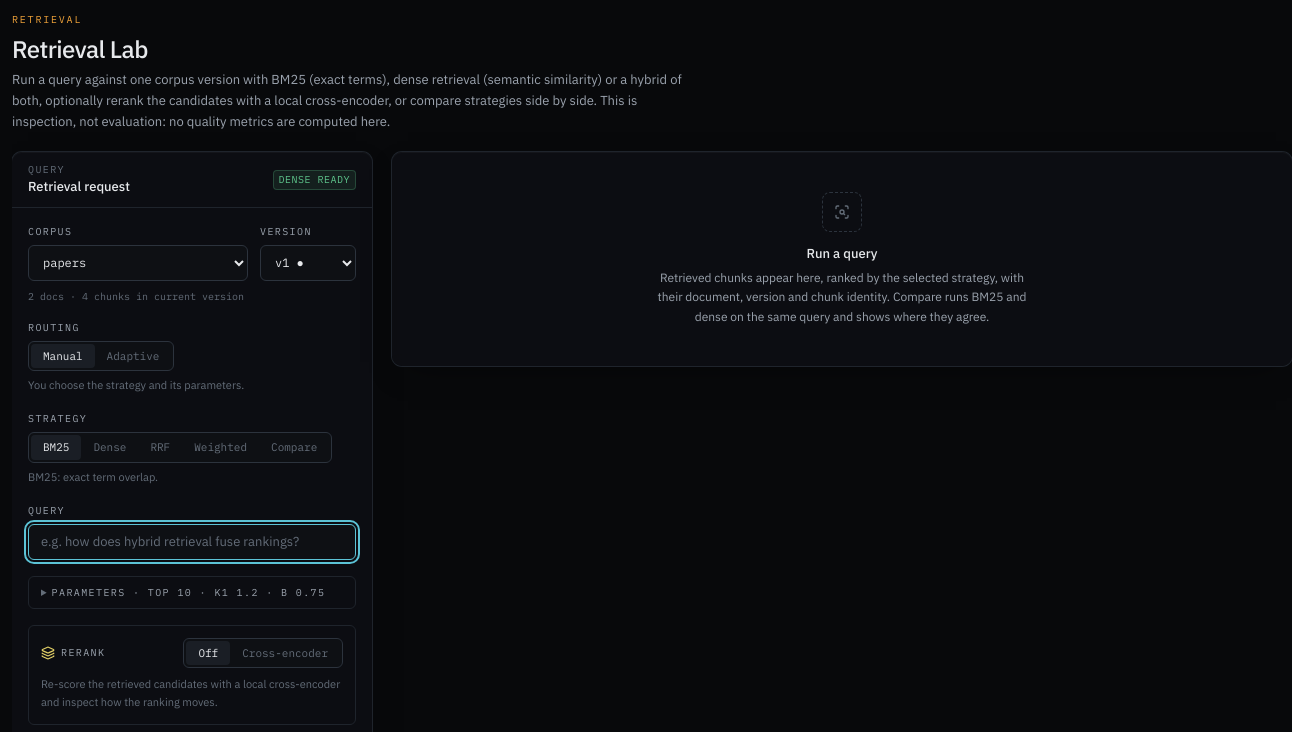
Test: Router mode in the Retrieval Lab › keeps manual mode as before and hides compare in adaptive mode
Check: the radio button labelled "Compare" is shown, box x1=271 y1=440 x2=317 y2=454
Click the radio button labelled "Adaptive".
click(133, 356)  # box x1=107 y1=349 x2=159 y2=363
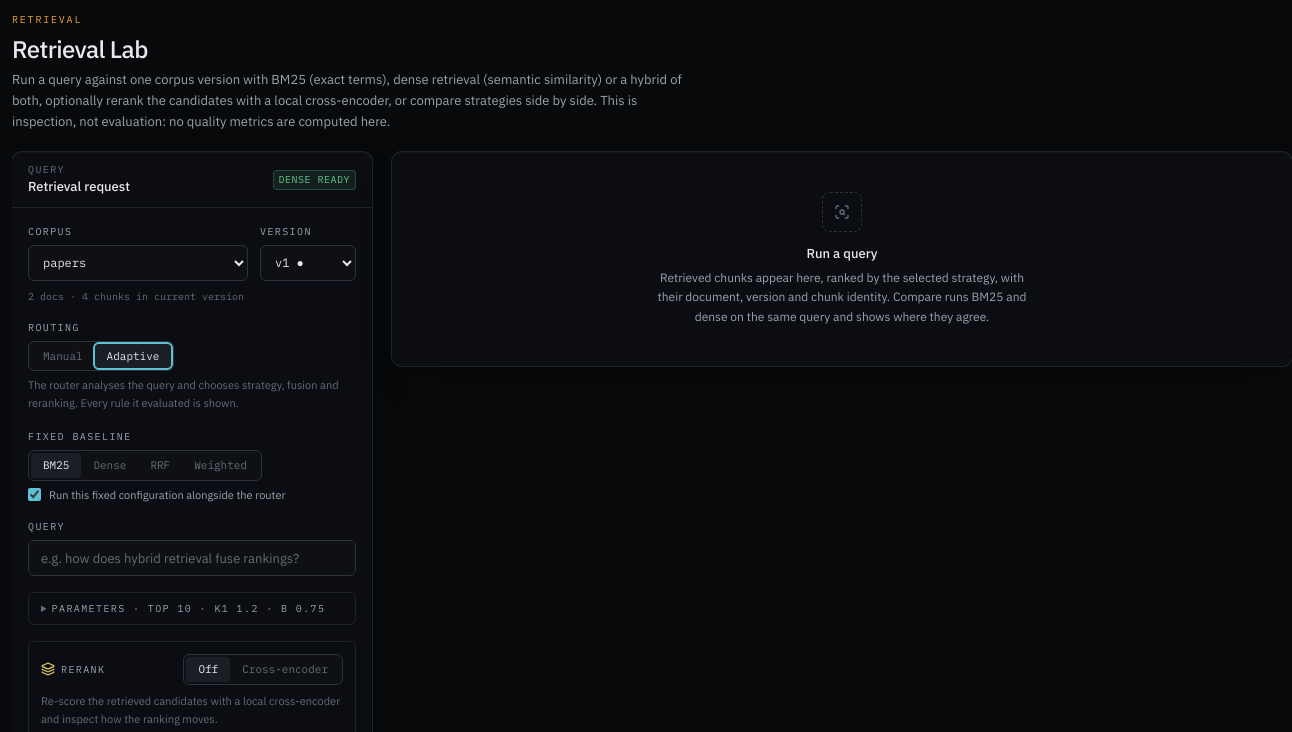
Check: the field labelled "Compare" is not shown
Check: the text "Fixed baseline" is shown, box x1=28 y1=430 x2=132 y2=443
Check: the checkbox labelled "Run this fixed configuration alongside the router" is checked, box x1=28 y1=488 x2=41 y2=501
